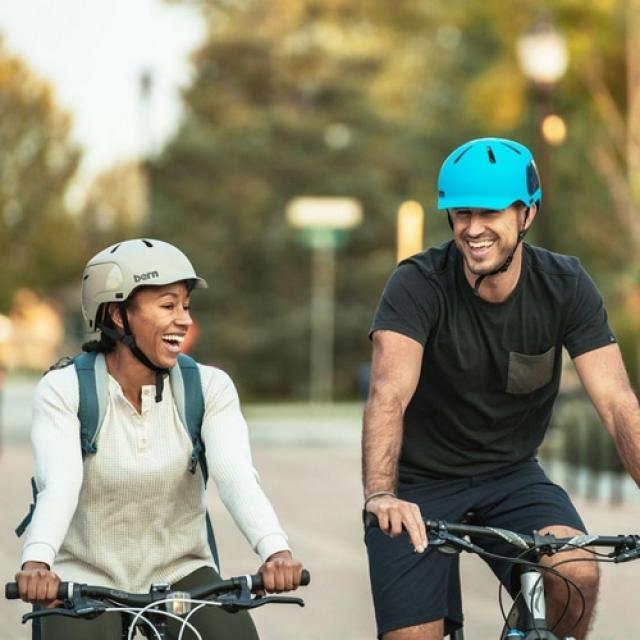illegal_helmet: (74, 231, 214, 384), (428, 131, 551, 283)
